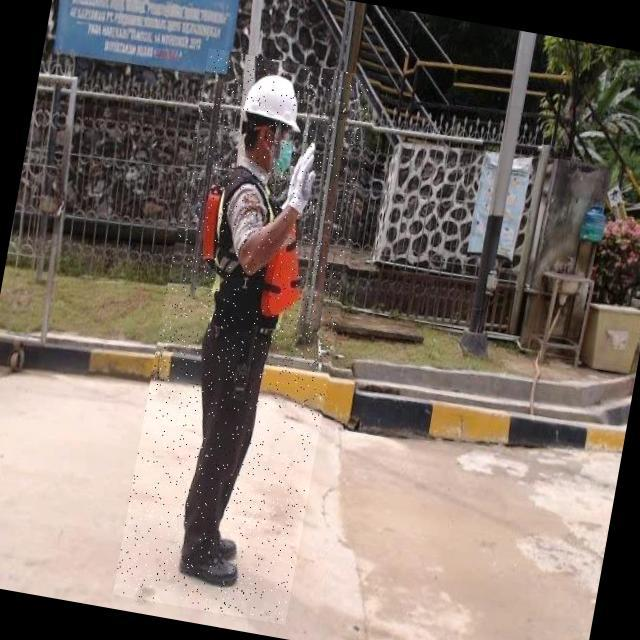Gloves: (274, 129, 324, 224)
Helmet: (240, 72, 313, 142)
Person: (120, 36, 361, 632)
Safety Boot: (178, 545, 248, 597), (208, 534, 243, 563)
Safety Vest: (187, 165, 324, 341)
